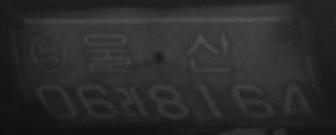0: (35, 81, 77, 121)
1: (189, 83, 225, 120)
4: (281, 81, 318, 123)
6: (230, 81, 275, 119), (77, 83, 119, 121)
8: (149, 83, 190, 120)
라: (119, 85, 149, 118)
영: (29, 31, 69, 72)
울산_D: (82, 30, 232, 73)
